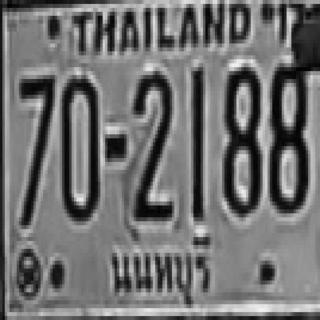N00: (60, 71, 98, 217)
N01: (191, 67, 203, 217)
N02: (130, 69, 171, 219)
N07: (17, 71, 53, 225)
N08: (267, 59, 306, 209), (222, 63, 258, 213)
P37: (104, 227, 220, 305)
